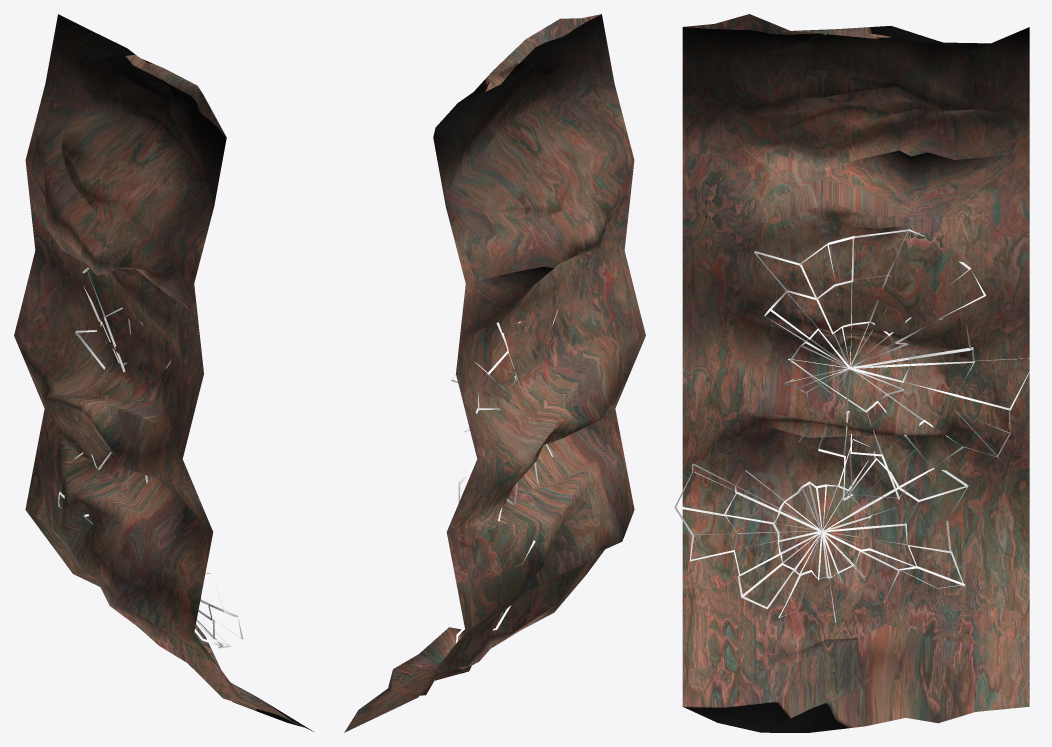
Rendered from cave_walls_straight_web.glb.
3 views of the same model, side by side, from view 1: azimuth 30°, elevation 25°; view 2: azimuth 150°, elevation 25°; view 3: azimuth 270°, elevation 25° (orthographic). The views are drawn at different scales.
Visible parts, largest first — view 1: cave_straight_web; view 2: cave_straight_web; view 3: cave_straight_web.
Part boxes in pixels (x1=…): cave_straight_web: x1=14, y1=14, x2=313, y2=731; cave_straight_web: x1=344, y1=14, x2=645, y2=732; cave_straight_web: x1=674, y1=14, x2=1037, y2=732.
Bounding box in the file's own units: 1.17 × 4.28 × 2.09.
2 materials, 1 textured.
